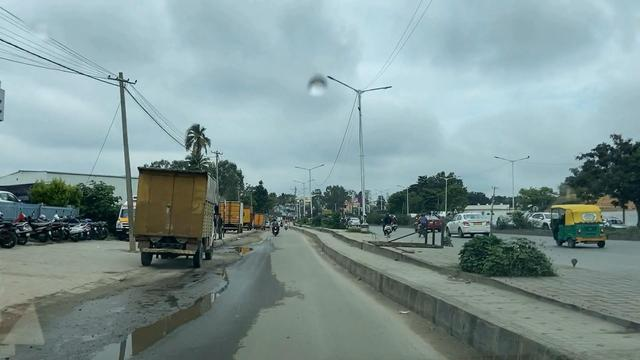HMV: (136, 166, 208, 263)
RoadDamages: (138, 276, 234, 316)
